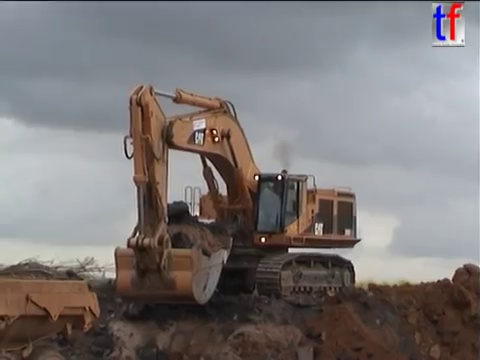excavator: (111, 81, 363, 308)
truck: (1, 274, 102, 358)
